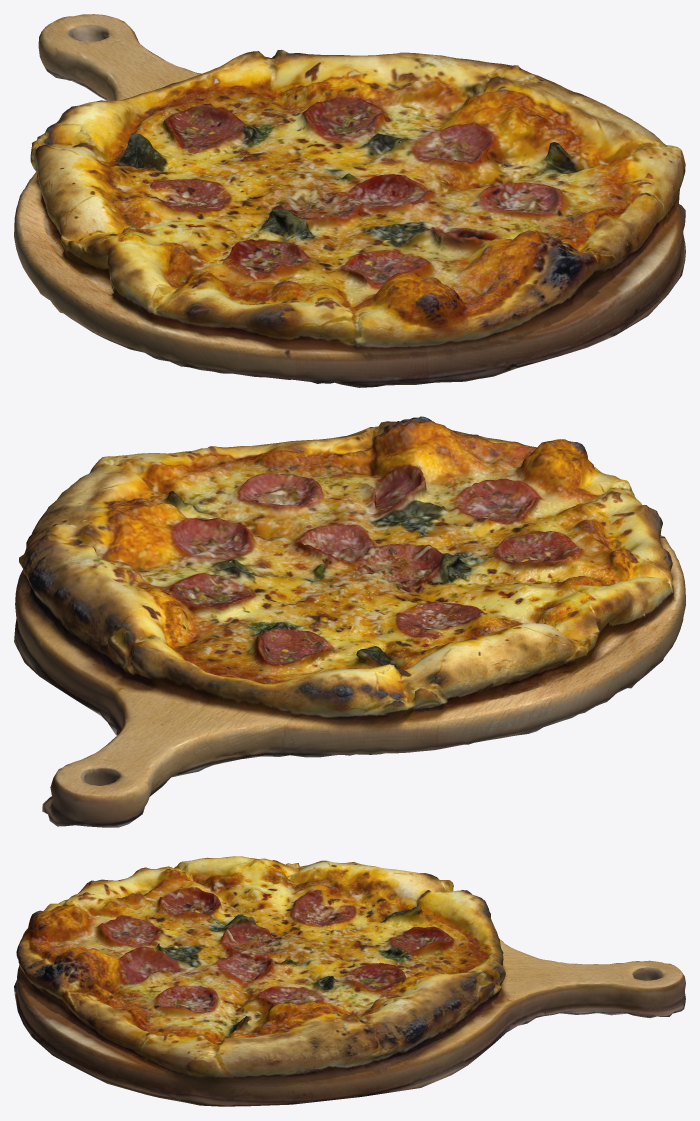
File: Pepperoni Pizza.glb
3 views of the same model, one above another, from view 1: azimuth 30°, elevation 25°; view 2: azimuth 150°, elevation 25°; view 3: azimuth 270°, elevation 25° (orthographic). The views are drawn at different scales.
Visible parts, largest first — view 1: ObjectCapture; view 2: ObjectCapture; view 3: ObjectCapture.
Part boxes in pixels (x1,y1,x2,y2): ObjectCapture: (14, 14, 685, 387); ObjectCapture: (14, 416, 685, 827); ObjectCapture: (14, 856, 685, 1106).
Bounding box in the file's own units: 0.2959 × 0.0491 × 0.3945.
1 material, 1 textured.
